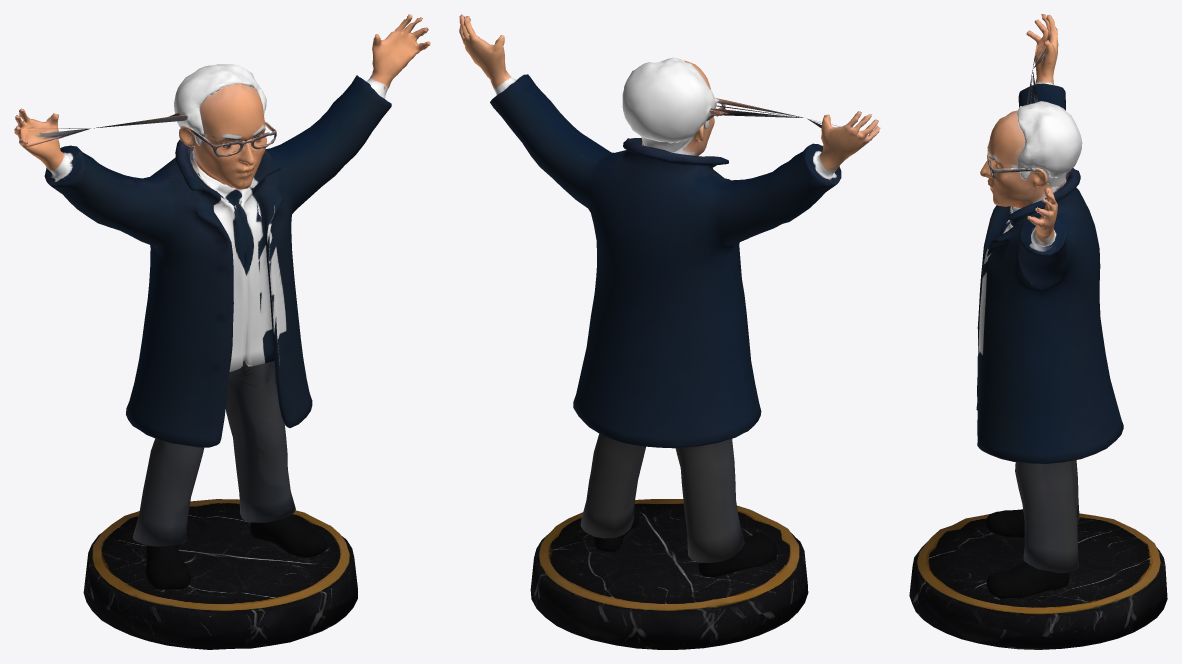
File: left-rook.glb
3 renders of one model, left to right at view 1: azimuth 30°, elevation 25°; view 2: azimuth 150°, elevation 25°; view 3: azimuth 270°, elevation 25°, orthographic. The views are drawn at different scales.
Size of the model in its own units: 0.8203 by 1 by 0.4756.
Materials: 1 (1 with a texture image).
